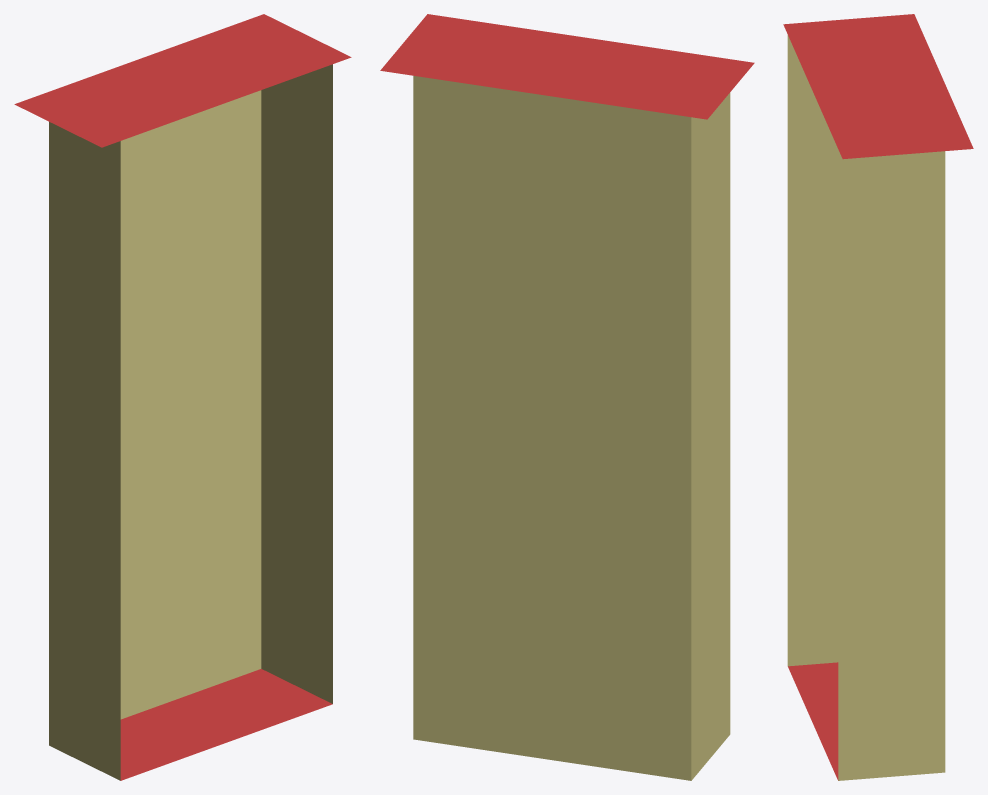
The picture shows the model from 3 angles, left to right: view 1: azimuth 30°, elevation 25°; view 2: azimuth 150°, elevation 25°; view 3: azimuth 270°, elevation 25°; orthographic projection. The views are drawn at different scales.
Size of the model in its own units: 7.03 by 3.9 by 14.26.
